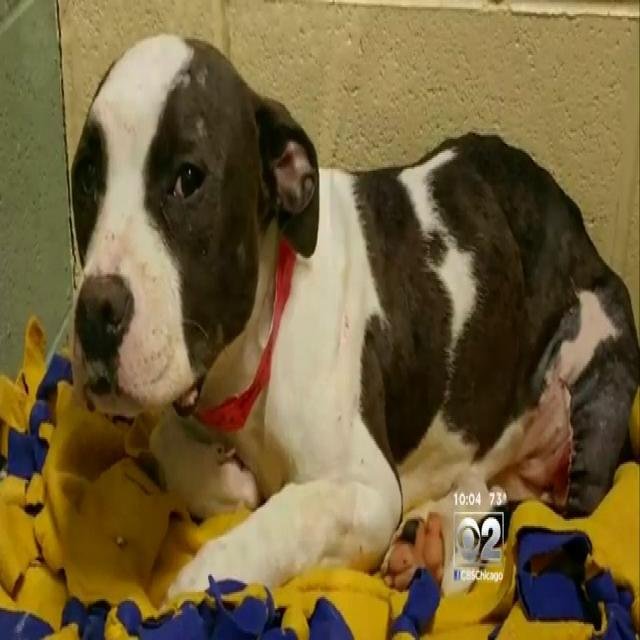normal_animals: (60, 27, 636, 597)
